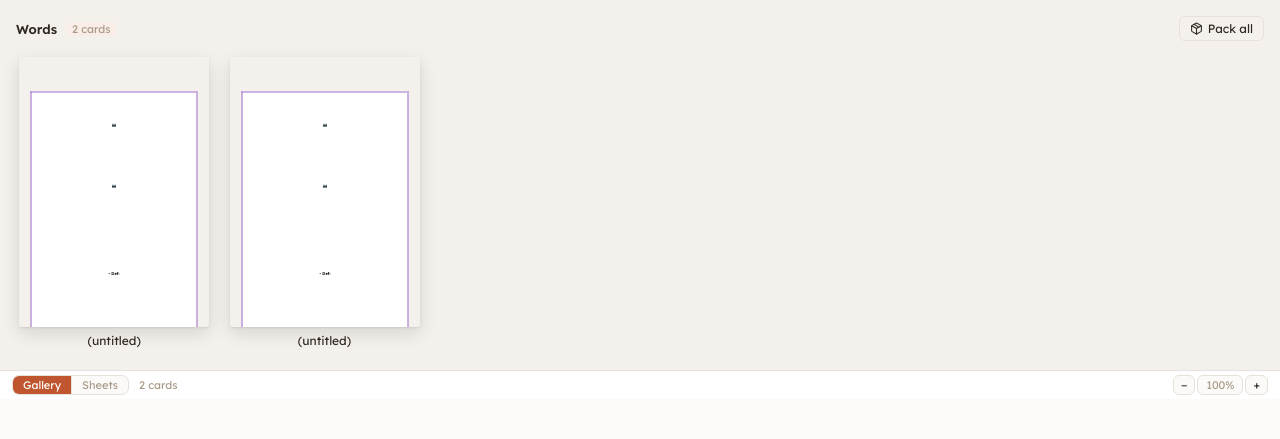
Scenario: CardGallery › status bar zoom: 100% by default, changes on zoom in, resets on click
The image size is (1280, 439).
Check: the button named "Reset zoom" reads "100%", box [1198, 375, 1244, 395]
Click the button named "Zoom in" at (1257, 385), box [1246, 375, 1268, 395]
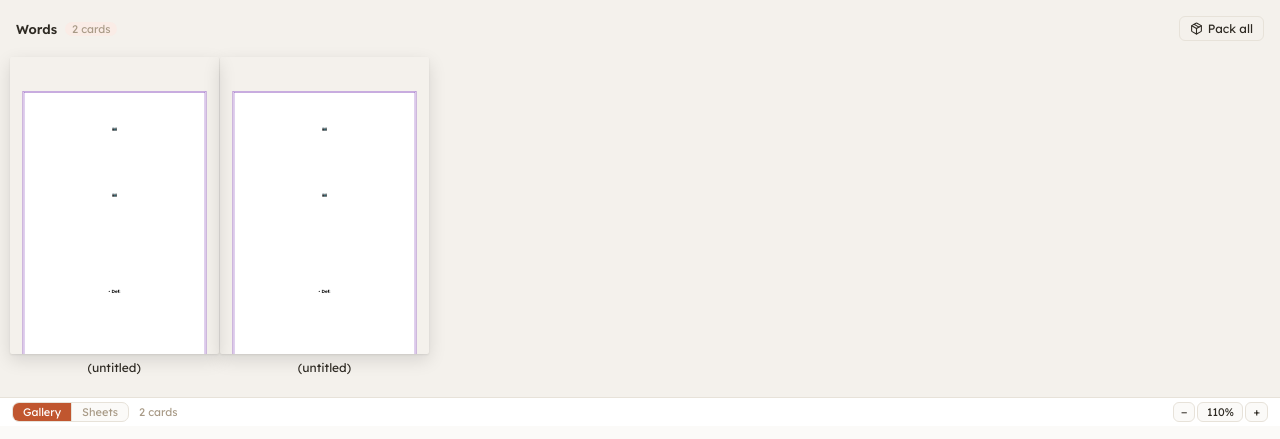
Click the button named "Reset zoom" at (1220, 412), box [1198, 402, 1244, 422]
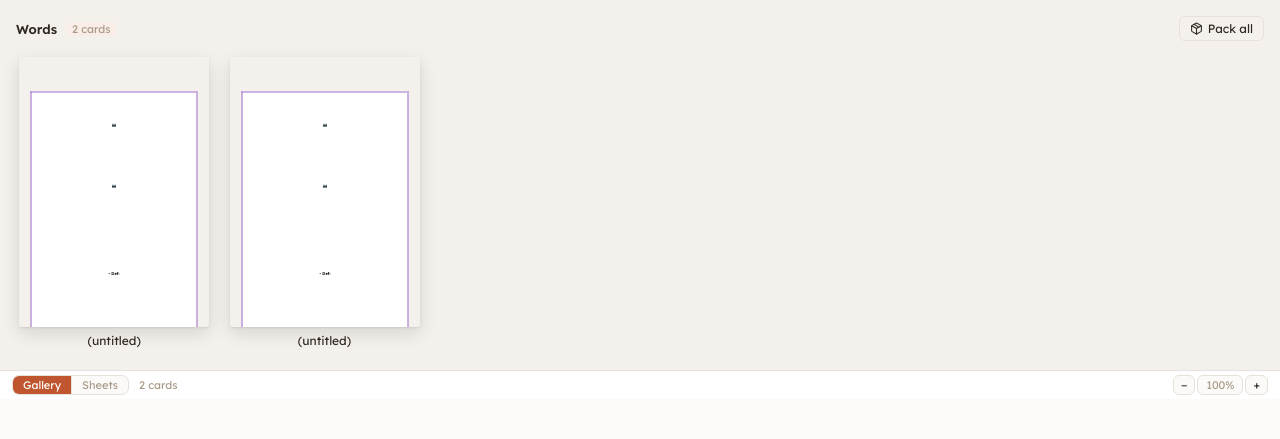
Check: the button named "Reset zoom" reads "100%", box [1198, 375, 1244, 395]
